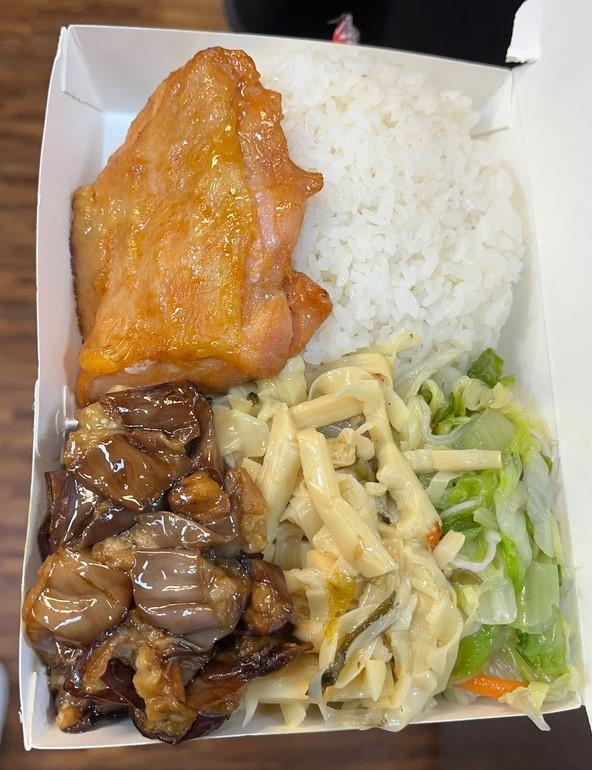big grilled chicken leg: (14, 0, 571, 756)
big herbal chicken leg: (287, 64, 537, 384)
braised fish fillet: (39, 387, 282, 741), (234, 357, 456, 717), (416, 354, 580, 713)
braised pork: (68, 44, 330, 389)
